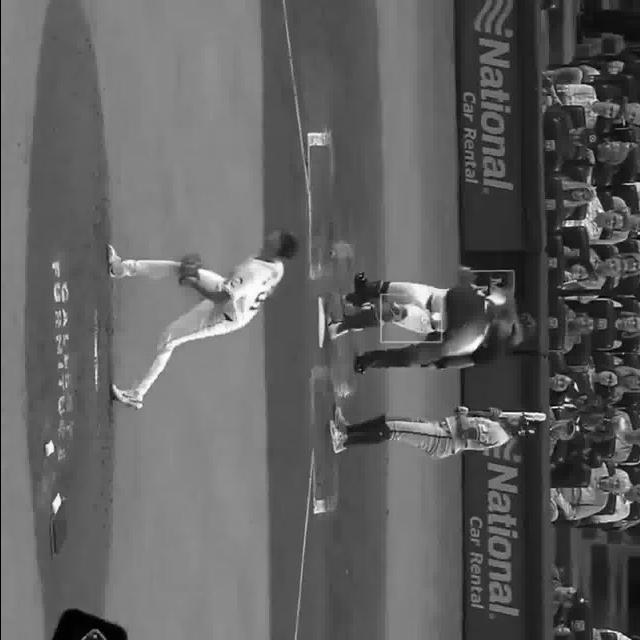base: (314, 296, 326, 350)
baseball_glove: (175, 254, 197, 288)
bat: (453, 408, 552, 424)
shoe: (108, 384, 144, 412), (322, 310, 340, 341), (328, 420, 344, 452), (108, 246, 121, 282), (333, 404, 345, 434)
